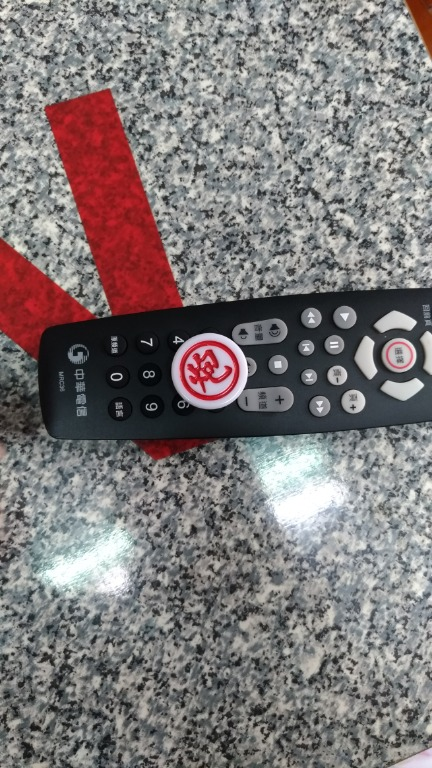r-cannon: (158, 322, 270, 429)
